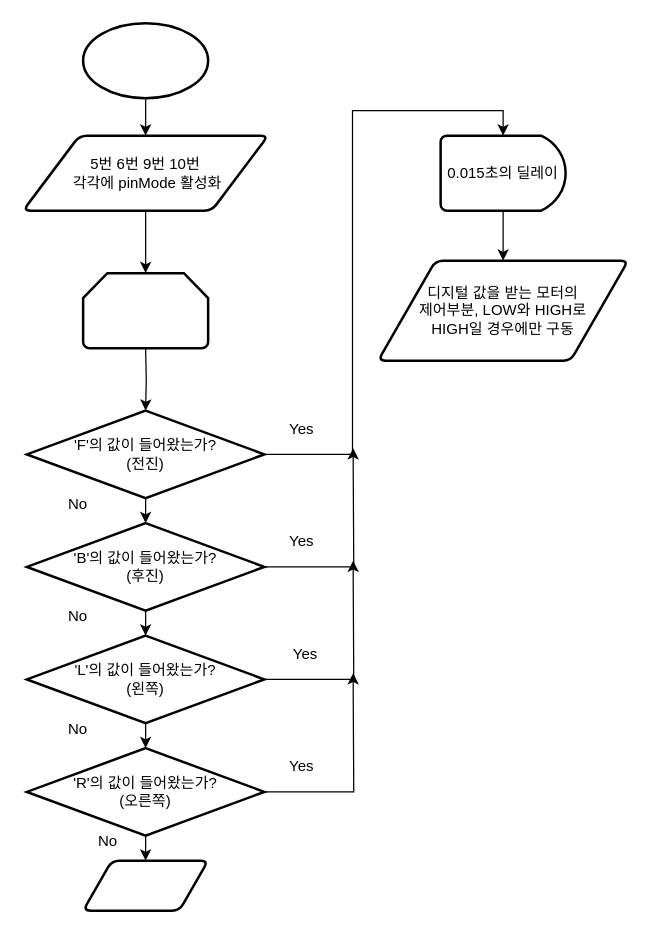
Image size: 650x933. Some labels were removed from this diagram. The centre of each missing label's shape, as x and y in pixels:
"Serial의 값을 받았을 경우" goes at [145,310].
"stop" goes at [145,885].
"구동 시작" goes at [145,60].
